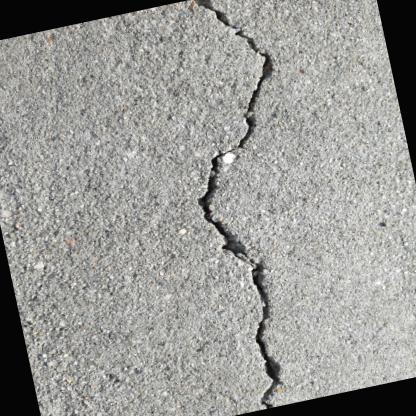crack: (190, 0, 283, 409)
